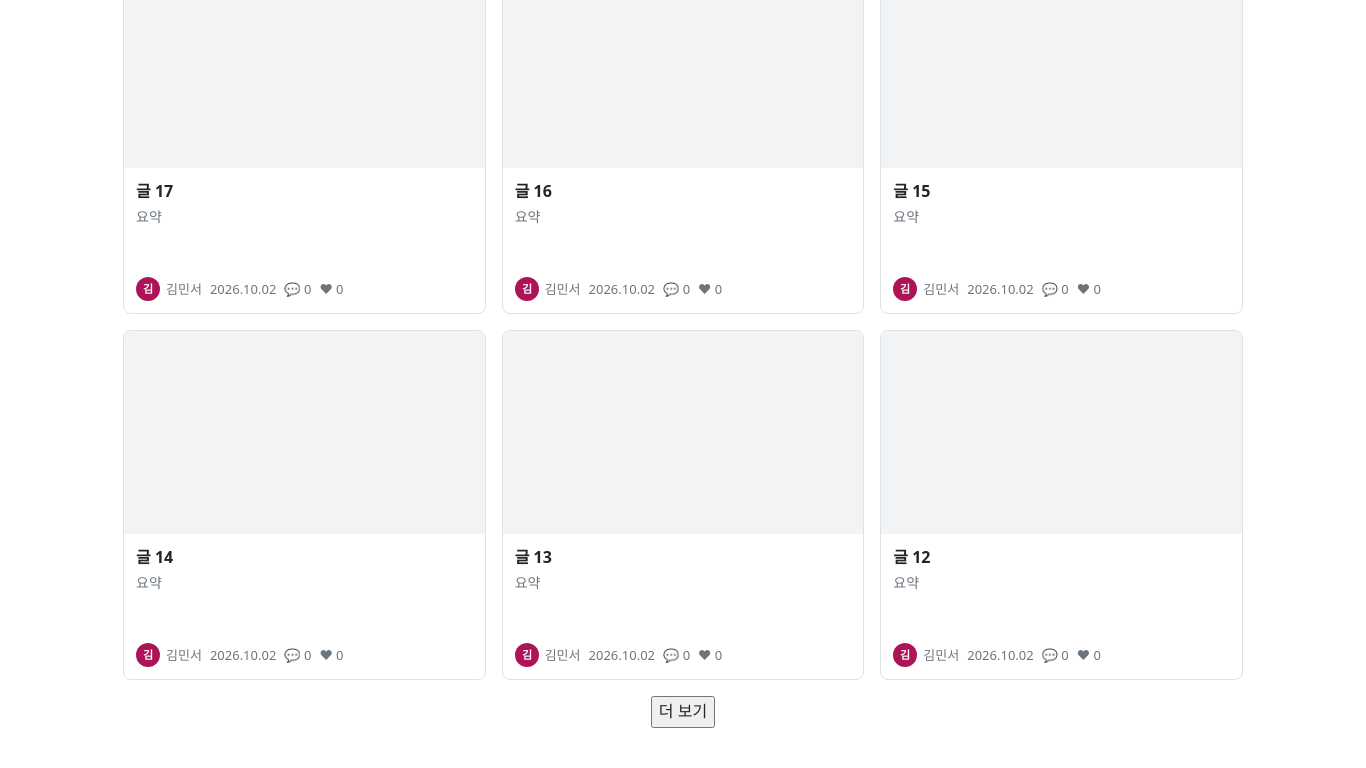
Test: HomePage › [더 보기]를 누르면 다음 9개가 아래에 이어 붙는다
The image size is (1366, 768).
(page scrolled)
Click the button "더 보기".
click(683, 712)  # box x1=651 y1=696 x2=715 y2=728
(page scrolled)
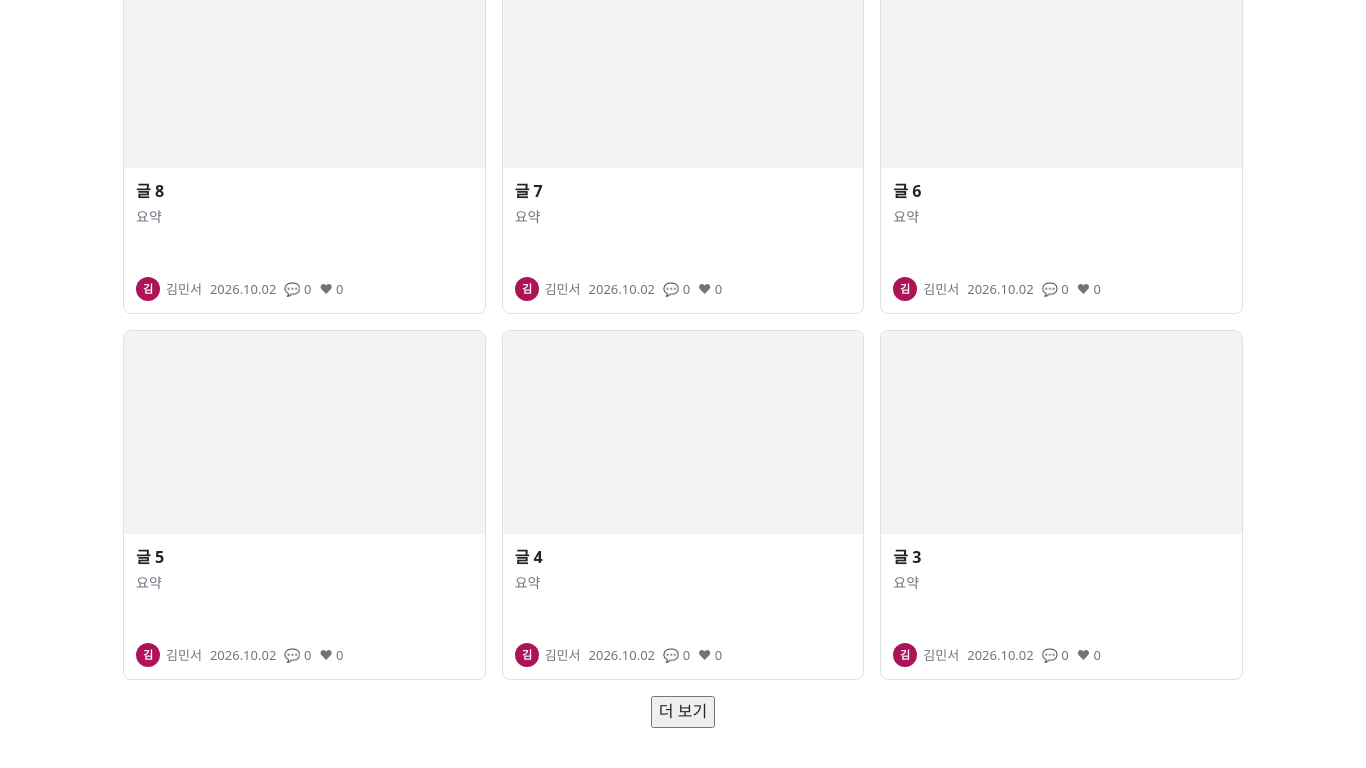
expect the heading with test id "card-title" reads "글 3": met, box x1=893 y1=546 x2=921 y2=568
